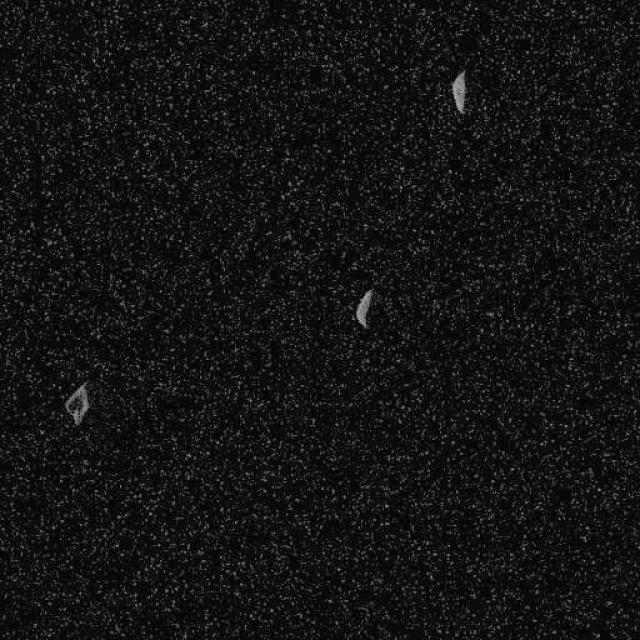D2: (62, 380, 90, 426), (353, 288, 375, 328), (450, 68, 466, 114)
